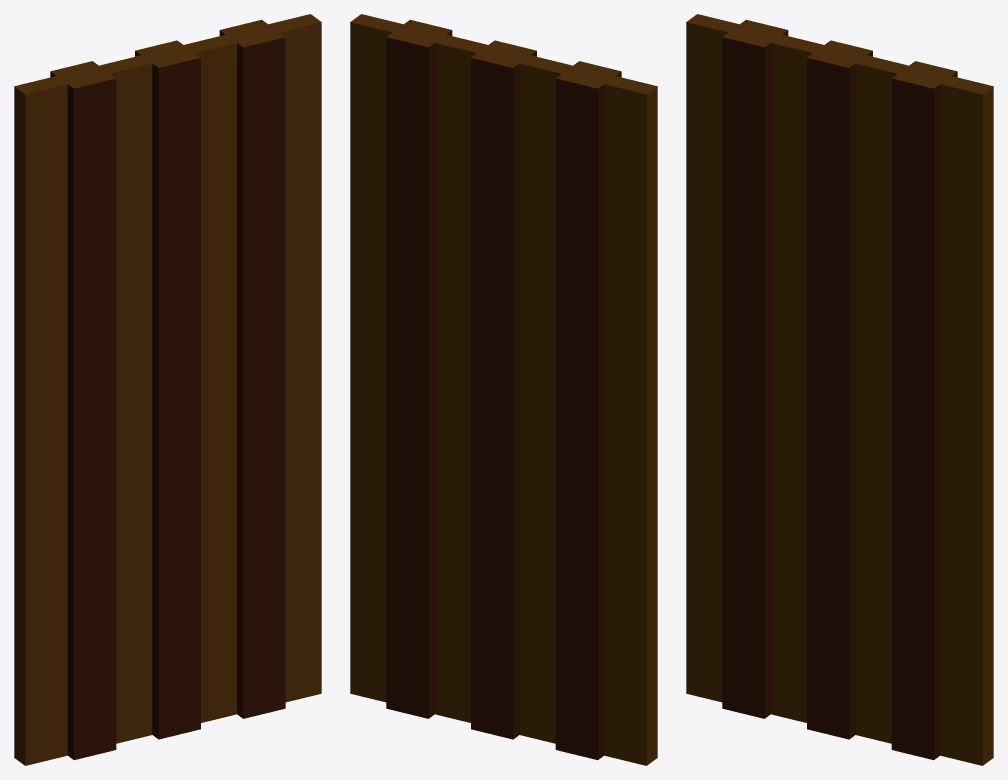
File: door.fbx
The picture shows the model from 3 angles, left to right: view 1: azimuth 30°, elevation 25°; view 2: azimuth 150°, elevation 25°; view 3: azimuth 330°, elevation 25°; orthographic projection.
Visible parts, largest first — view 1: Cube.003; view 2: Cube.003; view 3: Cube.003.
Boxes of the visible parts, bbox=[...] form: Cube.003: bbox=[14, 14, 321, 765]; Cube.003: bbox=[350, 14, 657, 765]; Cube.003: bbox=[686, 14, 993, 765].
Size of the model in its own units: 367 by 795 by 51.04.
